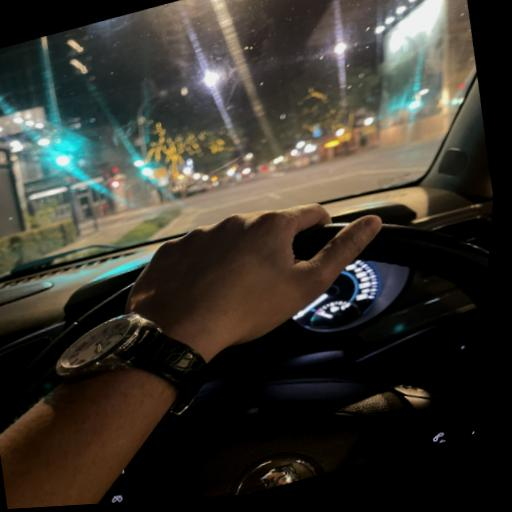Hands-on-the-Wheel: (77, 150, 422, 383)
